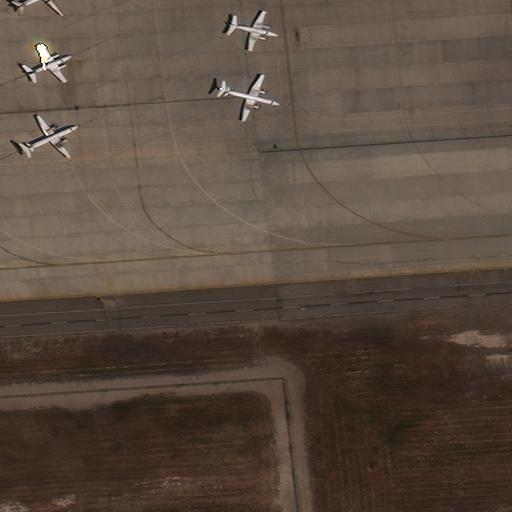Medium Civil Transport: (218, 75, 280, 121), (21, 115, 79, 156), (14, 0, 67, 14)
Small Civil Transport: (227, 12, 278, 50), (27, 44, 72, 79)
